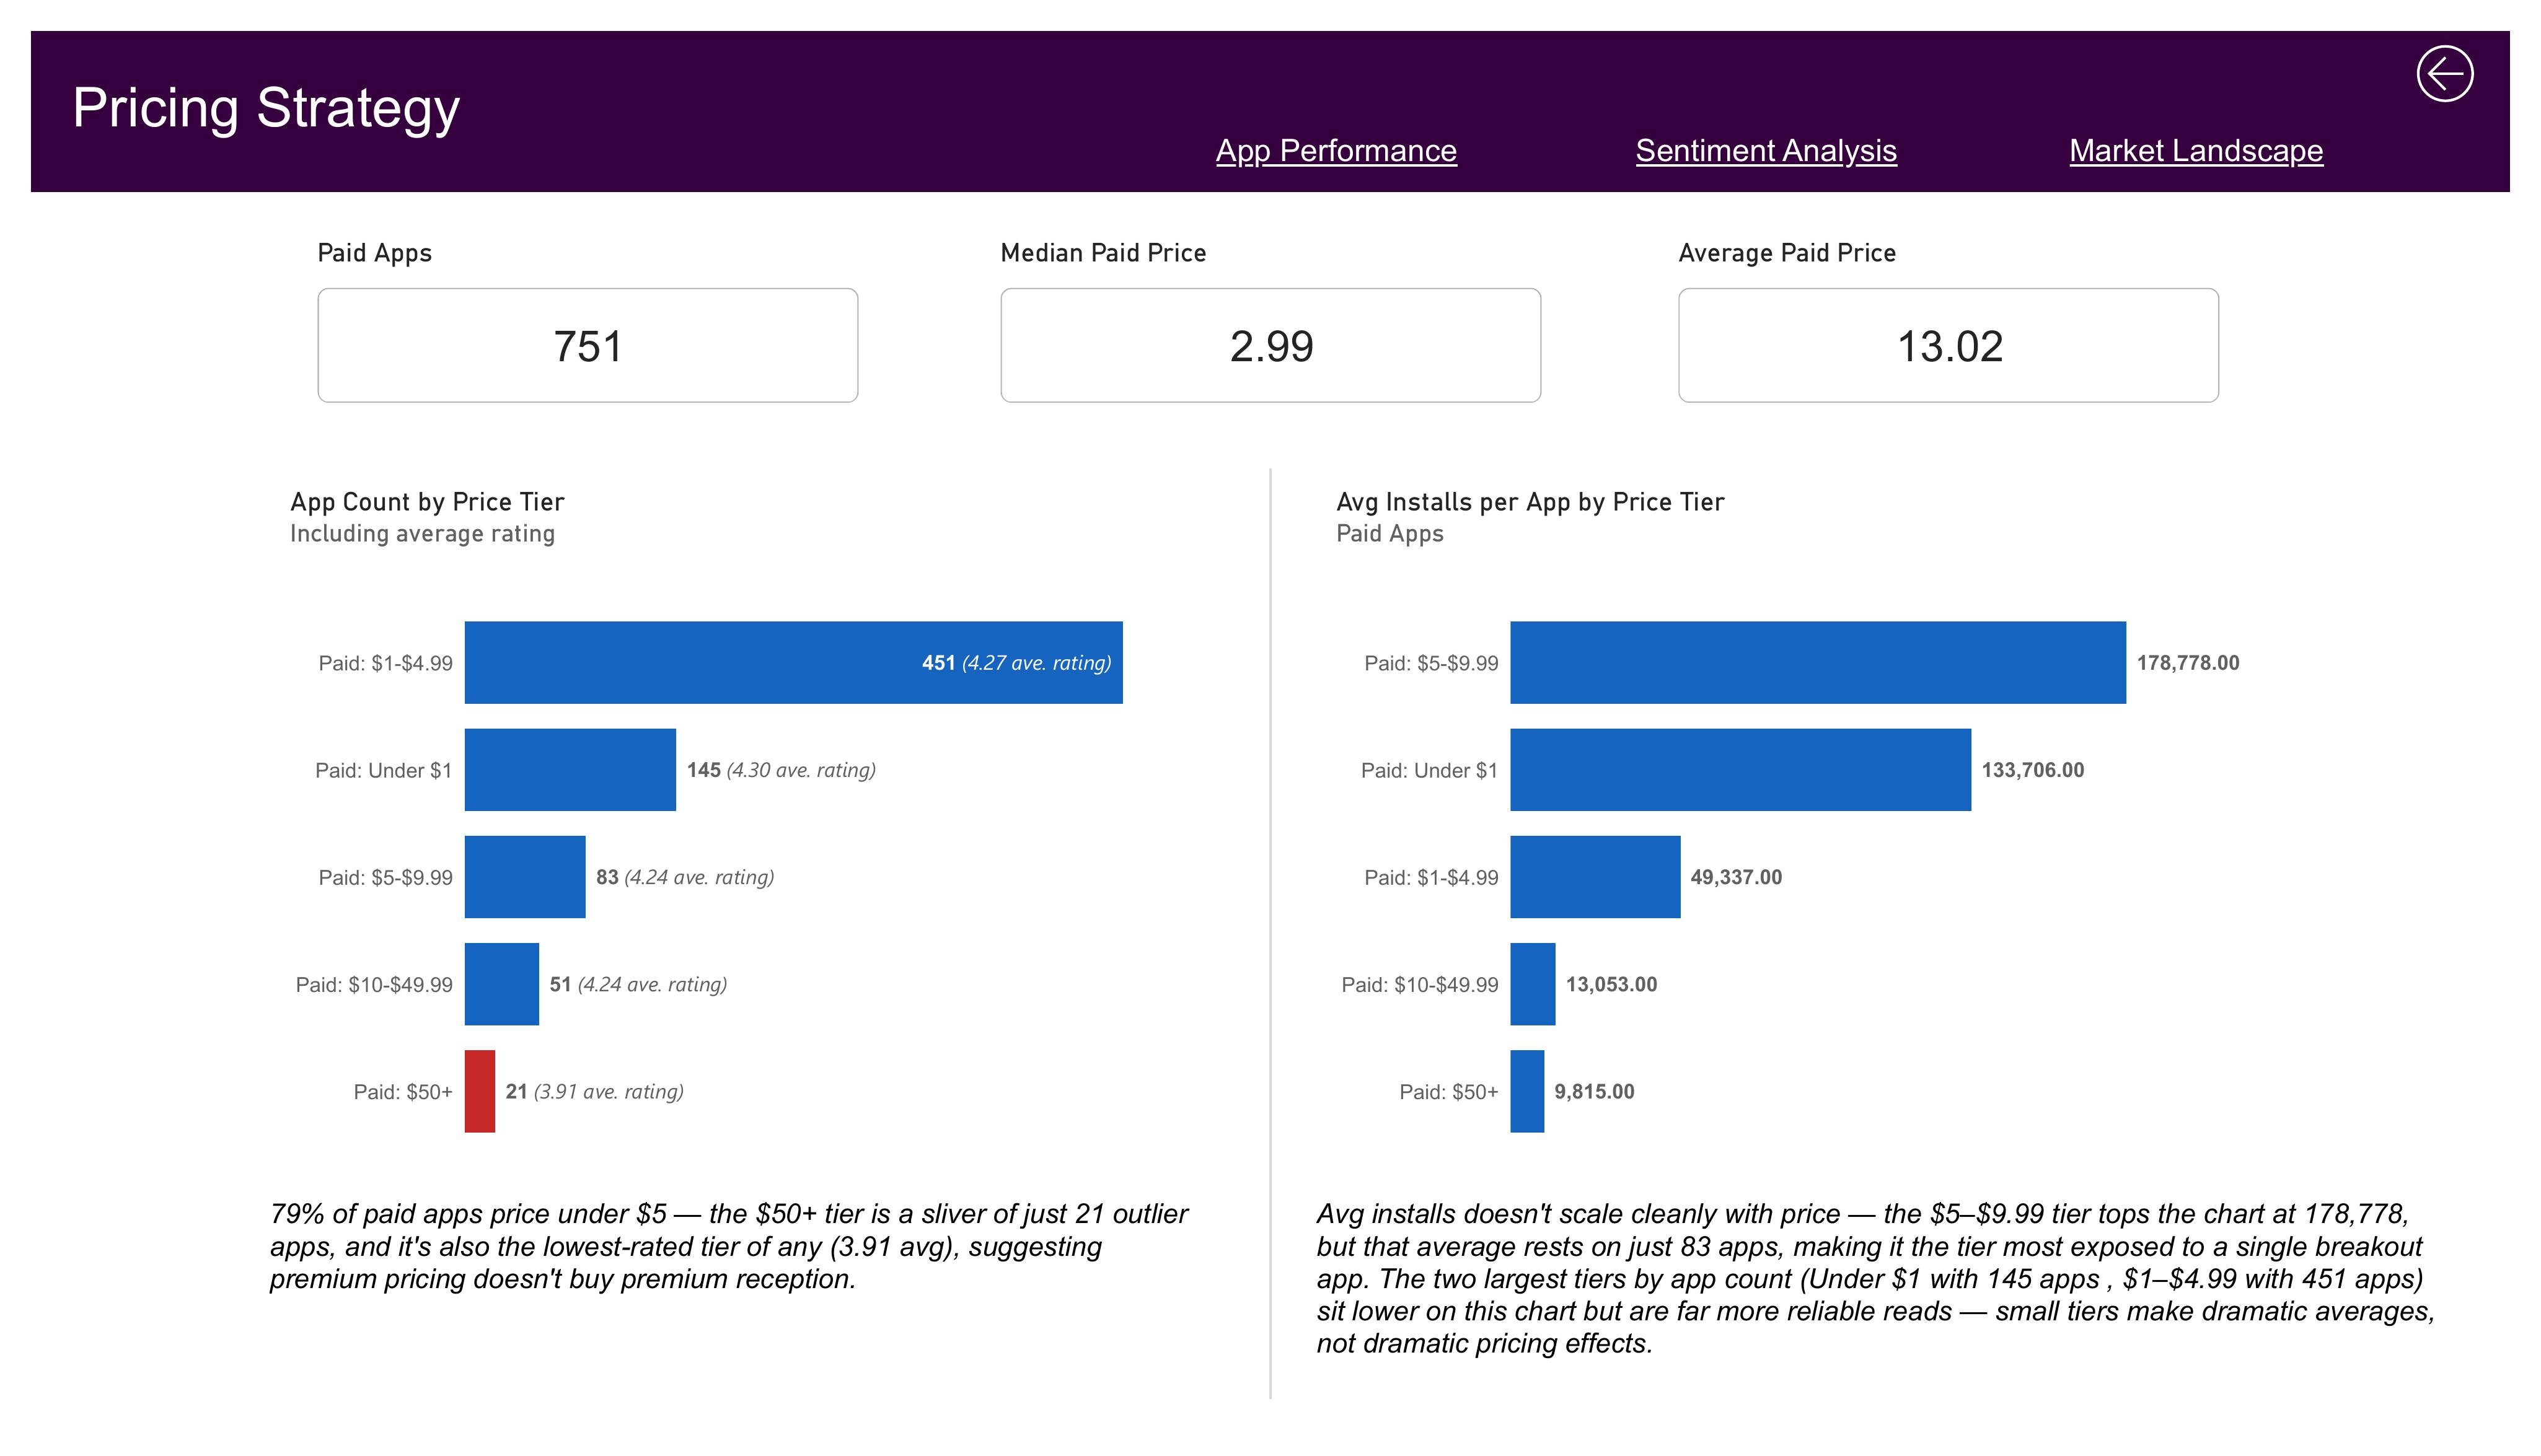

The dashboard page shown, as its layout file describes it:
{"tool":"powerbi","page":{"name":"Pricing_Strategy","canvas":[1920,1080],"ordinal":2},"visuals":[{"type":"shape","box":[0,0,1920.2,125.2],"z":0},{"type":"textbox","box":[31.7,35.1,531,58.4],"z":1000},{"type":"actionButton","box":[1820,0,100,65],"z":2000},{"type":"shape","box":[845.5,60,332.7,65.5],"z":3000},{"type":"shape","box":[1178.2,60,332.7,65.5],"z":4000},{"type":"shape","box":[1510.9,60,332.7,65.5],"z":5000},{"type":"cardVisual","title":"Paid Apps","fields":{"Data":["fct_pricing_strategy.Paid App Count"]},"box":[222.5,160.2,418.6,129.1],"z":6000},{"type":"cardVisual","title":"Median Paid Price","fields":{"Data":["stg_apps.Median Paid Price"]},"box":[751.1,160.2,418.6,129.1],"z":7000},{"type":"cardVisual","title":"Average Paid Price","fields":{"Data":["stg_apps.Average Paid Price"]},"box":[1276.1,160.2,418.6,129.1],"z":8000},{"type":"barChart","title":"App Count by Price Tier","fields":{"Category":["fct_pricing_strategy.price_tier"],"Y":["Sum(fct_pricing_strategy.app_count)"]},"box":[185.3,339.2,732,566],"z":9000},{"type":"textbox","box":[185.3,905.3,731.4,101.9],"z":10000},{"type":"barChart","title":"Avg Installs per App by Price Tier","fields":{"Category":["fct_pricing_strategy.price_tier"],"Y":["Avg(fct_pricing_strategy.avg_installs_per_app)"]},"box":[995.2,339.2,732.8,566],"z":11000},{"type":"textbox","box":[995.9,905.2,873.8,146.5],"z":12000},{"type":"shape","box":[953.4,339,13.4,721.3],"z":13000}]}

Visuals, with their boxes on the page's 1920x1080 design canvas (x1, y1, x2, y2). These are canvas units, not pixel positions in the 2541x1456 screenshot, which may show the page scaled, cropped or inside an application window:
shape: region(0, 0, 1920, 125)
textbox: region(32, 35, 563, 94)
actionButton: region(1820, 0, 1920, 65)
shape: region(846, 60, 1178, 126)
shape: region(1178, 60, 1511, 126)
shape: region(1511, 60, 1844, 126)
"Paid Apps" cardVisual: region(222, 160, 641, 289)
"Median Paid Price" cardVisual: region(751, 160, 1170, 289)
"Average Paid Price" cardVisual: region(1276, 160, 1695, 289)
"App Count by Price Tier" barChart: region(185, 339, 917, 905)
textbox: region(185, 905, 917, 1007)
"Avg Installs per App by Price Tier" barChart: region(995, 339, 1728, 905)
textbox: region(996, 905, 1870, 1052)
shape: region(953, 339, 967, 1060)
